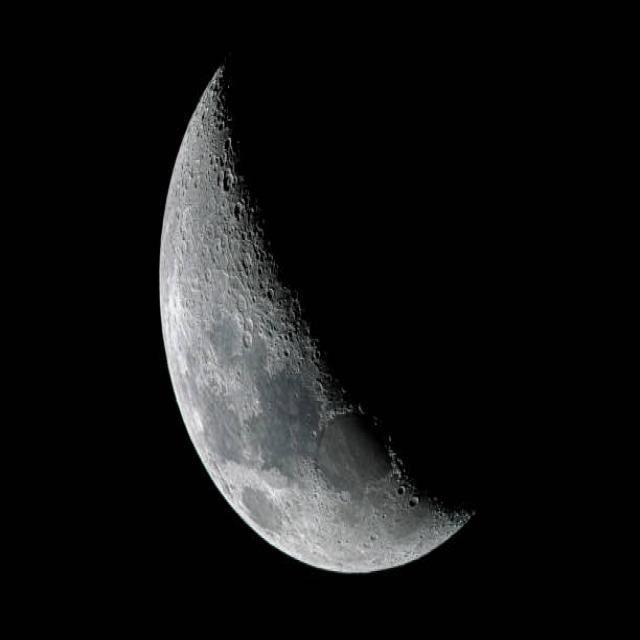moon: (120, 34, 554, 588)
